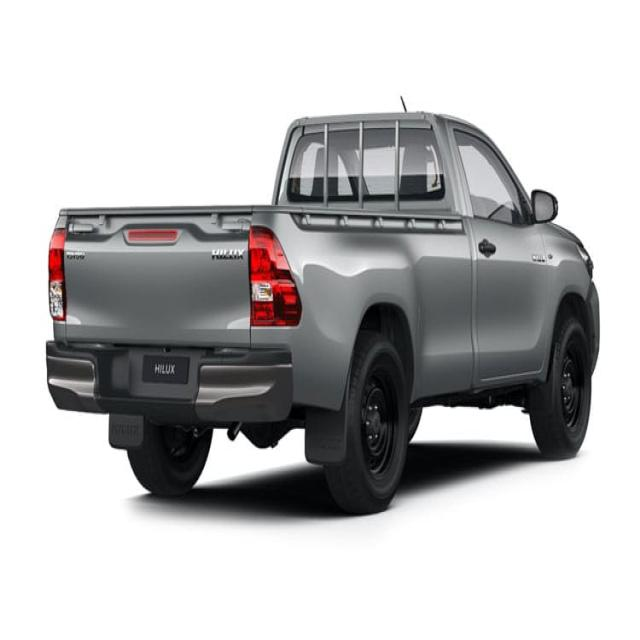light_vehicle: (36, 105, 610, 517)
